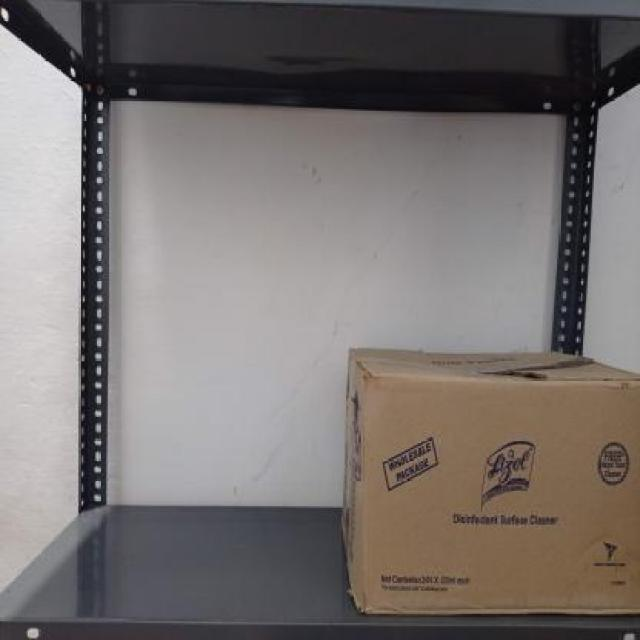box: (361, 374, 640, 613)
